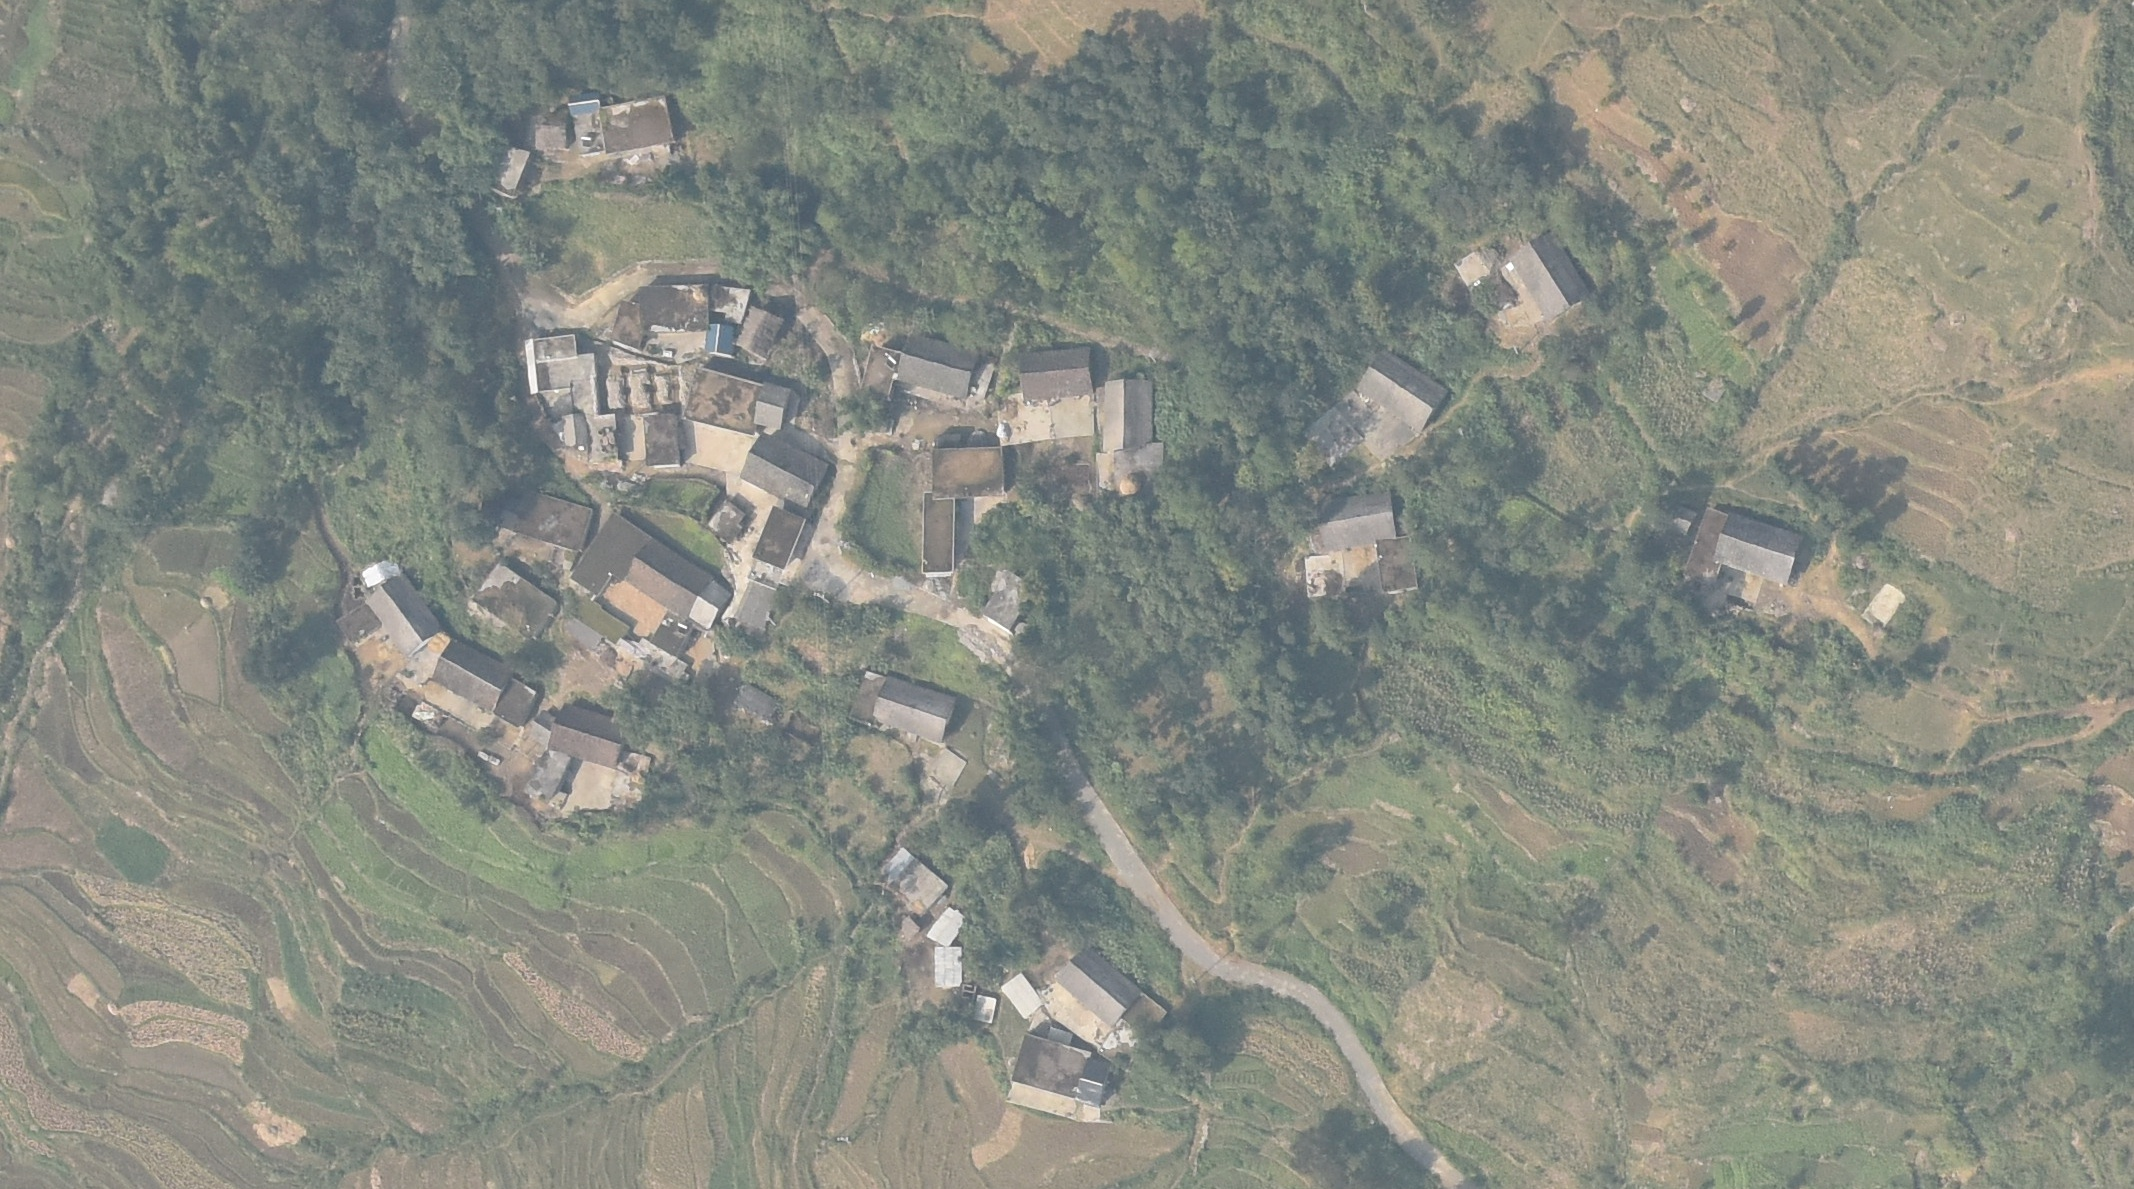building: (1289, 491, 1442, 600), (1677, 499, 1808, 592), (515, 331, 624, 439), (626, 532, 741, 627), (1010, 1029, 1115, 1122), (852, 656, 959, 745), (1038, 947, 1146, 1029), (1352, 343, 1450, 430), (1101, 381, 1172, 493), (682, 363, 793, 433), (1505, 234, 1590, 321), (565, 97, 681, 160), (550, 704, 648, 775), (894, 327, 981, 403), (499, 479, 591, 546), (569, 504, 648, 581), (430, 641, 514, 715), (1007, 341, 1096, 409), (922, 442, 1022, 499), (739, 435, 828, 495), (369, 578, 446, 647), (866, 846, 954, 906), (912, 492, 967, 581), (635, 407, 704, 470), (757, 498, 811, 573), (632, 280, 708, 332), (637, 612, 692, 678), (738, 302, 786, 362), (487, 135, 531, 198), (995, 969, 1047, 1016), (738, 676, 785, 726), (738, 575, 776, 633), (498, 674, 536, 729), (926, 944, 967, 991), (924, 906, 967, 944), (705, 322, 741, 357)
vehicle: (476, 748, 501, 773)
